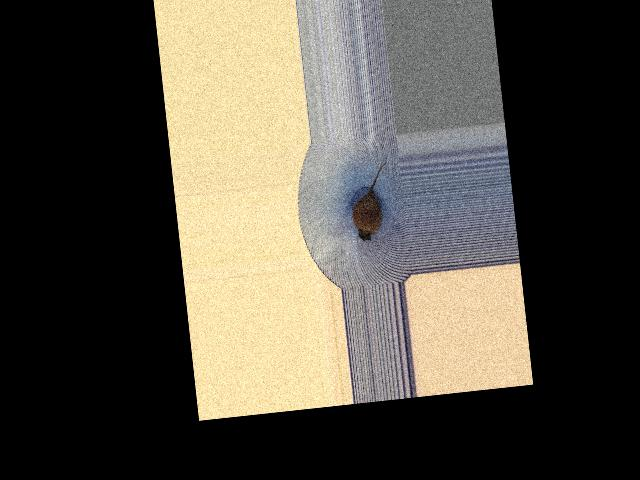beet: (348, 163, 394, 242)
